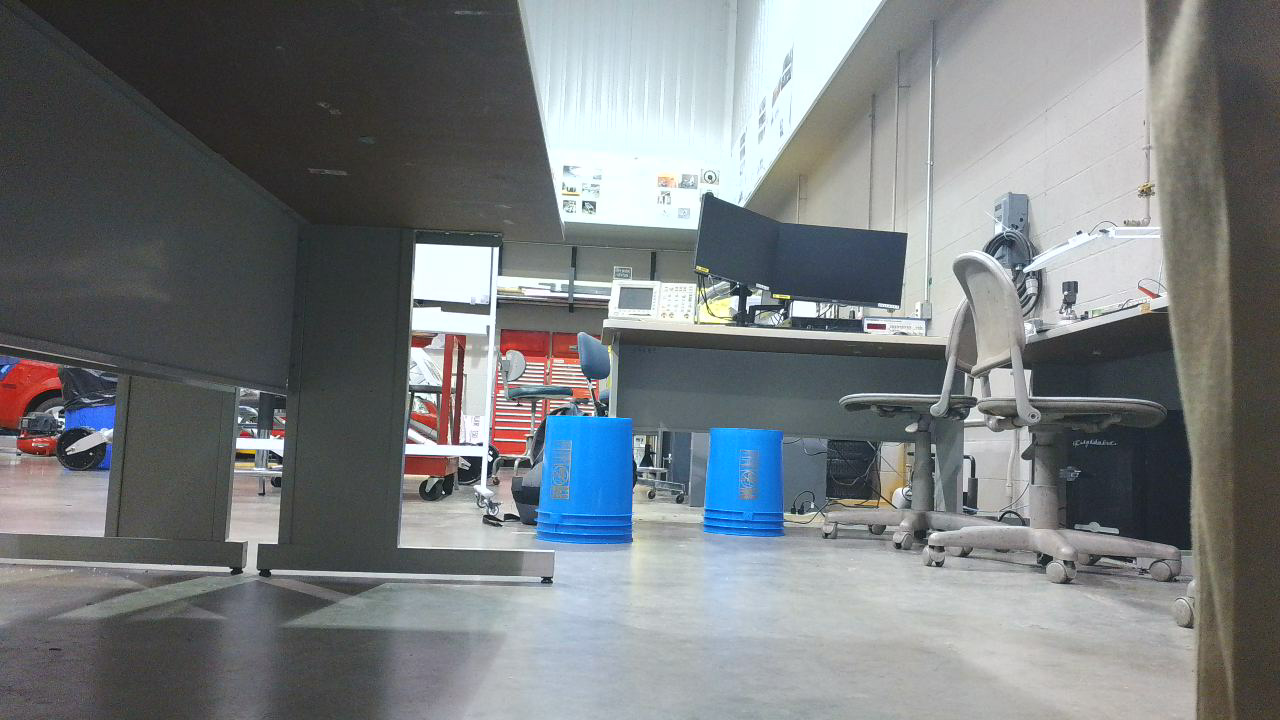blue_bucket: (539, 418, 643, 549), (705, 429, 794, 544)
